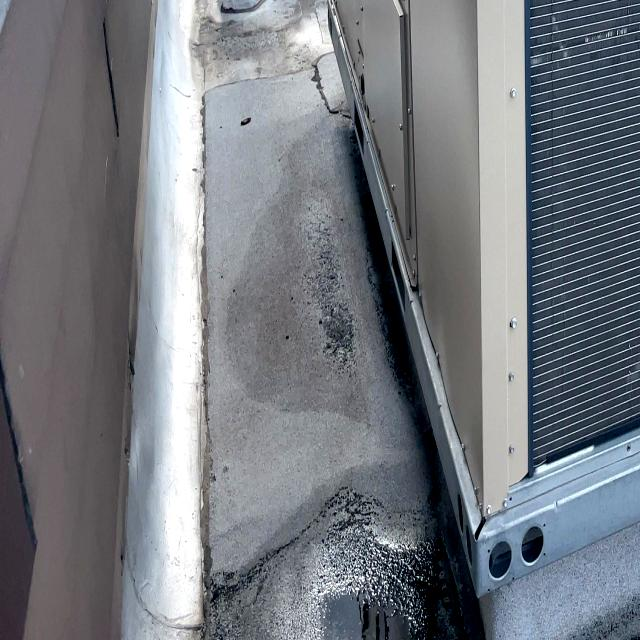GRAVITY-VENT: (182, 0, 272, 25)
RTU: (301, 0, 640, 594)
